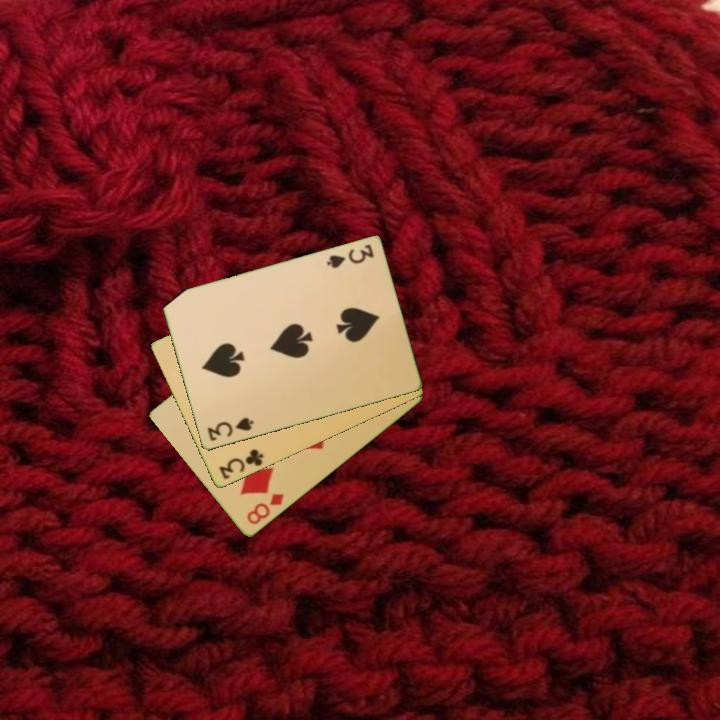3c: (215, 445, 266, 483)
3s: (323, 241, 376, 272), (204, 414, 256, 444)
8d: (243, 490, 287, 528)
